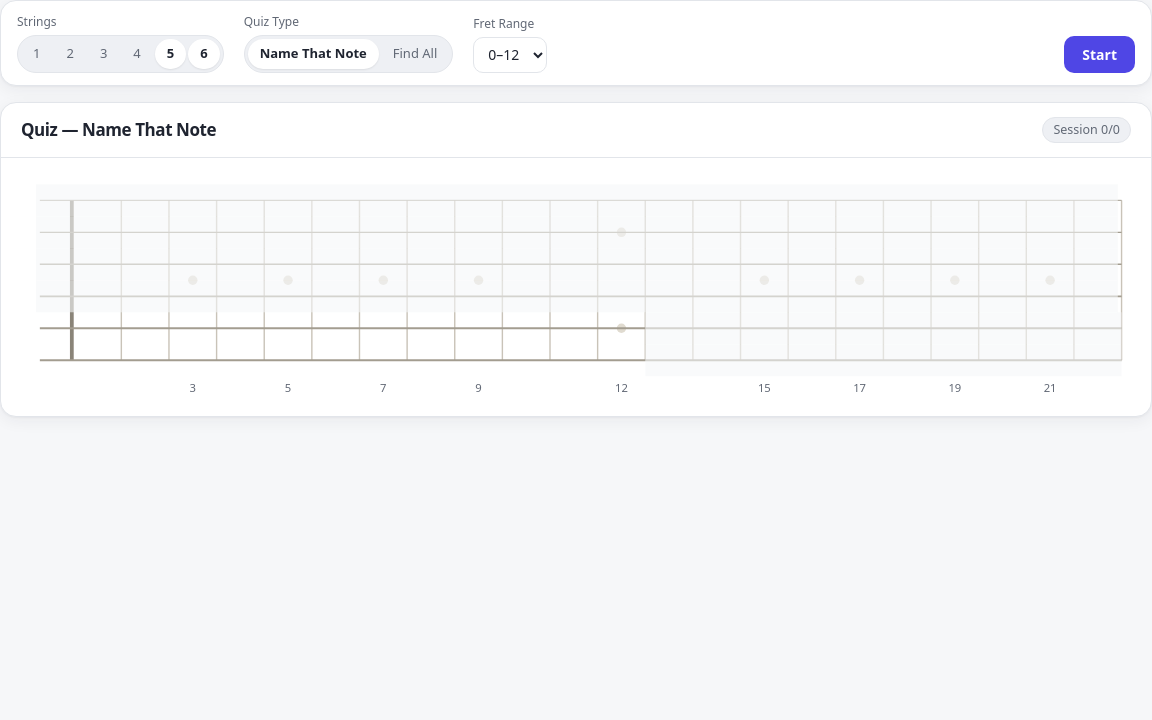
Test: Quiz — 이 음은? › reveals the answer at the position on a wrong pick
Click the button "Start".
click(1100, 54)  # box [1064,36,1135,72]
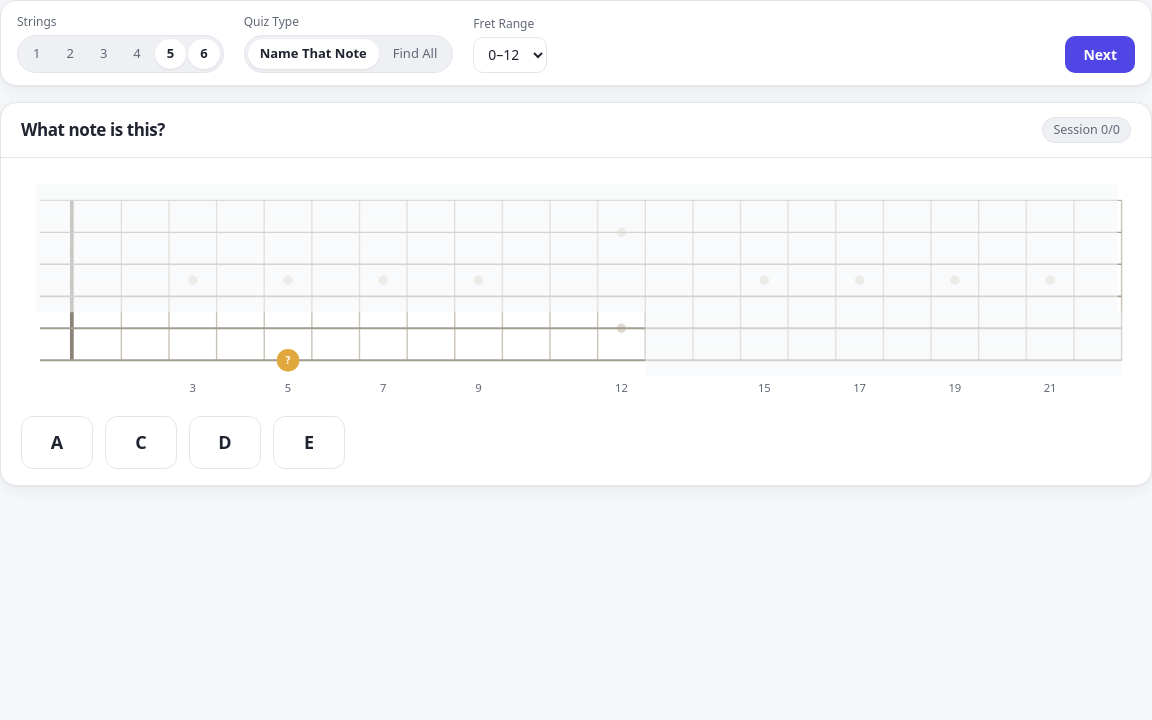
Click the button "C".
click(141, 442)  # box [105,416,177,469]
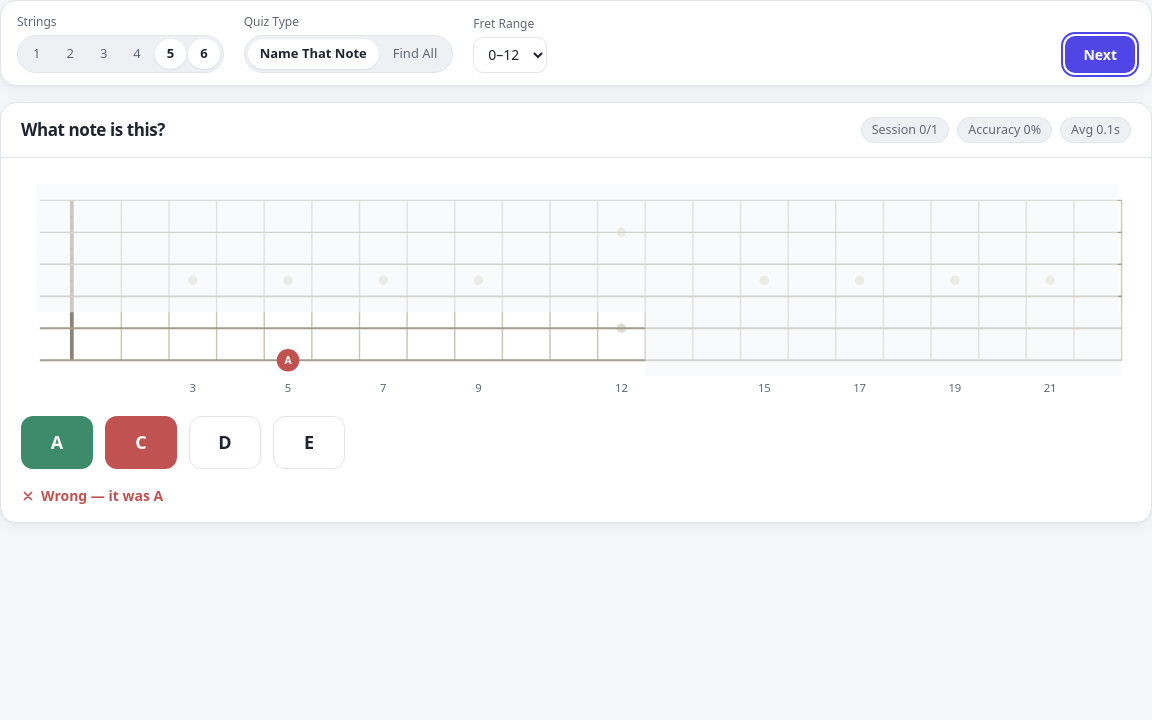
Now the text "Wrong — it was A" is shown, box [21,486,163,505]
Now the text "Session 0/1" is shown, box [861,116,949,143]
